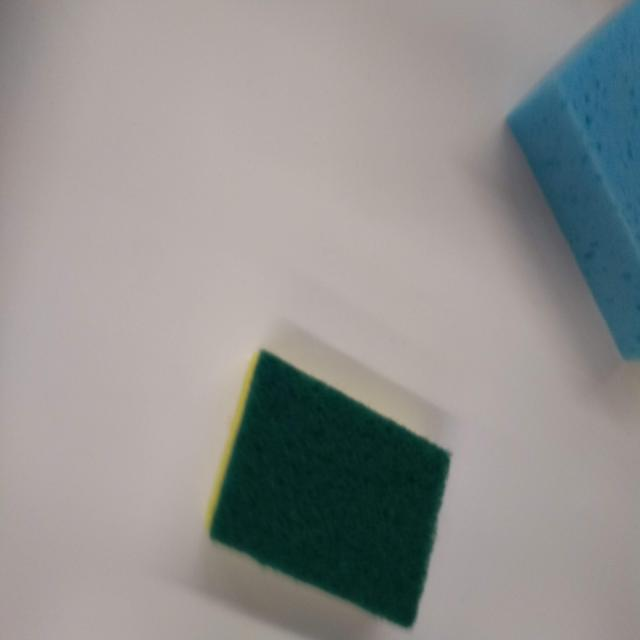scrubby: (200, 342, 458, 632)
